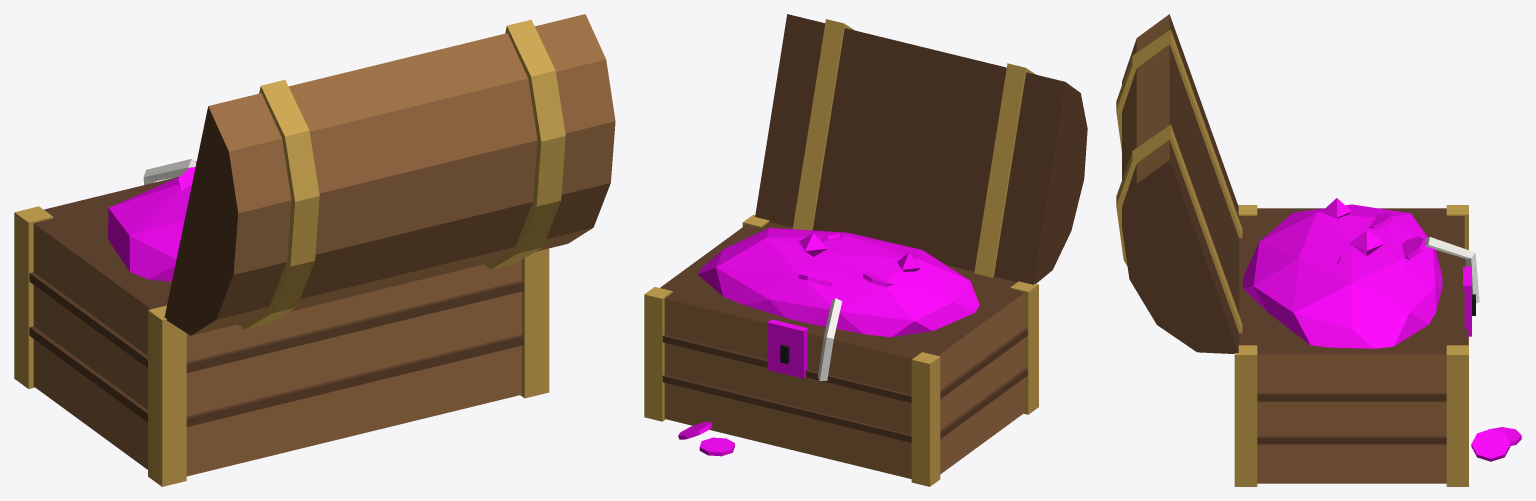
Rendered from pickup_treasure.glb.
3 views of the same model, side by side, from view 1: azimuth 30°, elevation 25°; view 2: azimuth 150°, elevation 25°; view 3: azimuth 270°, elevation 25° (orthographic). The views are drawn at different scales.
Visible parts, largest first — view 1: pickup_treasure__body; view 2: pickup_treasure__body; view 3: pickup_treasure__body.
Part boxes in pixels (box(x1,y1,x2,y2)): pickup_treasure__body: box(14, 14, 615, 486); pickup_treasure__body: box(644, 14, 1087, 486); pickup_treasure__body: box(1116, 14, 1521, 486).
Size of the model in its own units: 0.472 by 0.4852 by 0.5397.
1 material, 1 textured.
